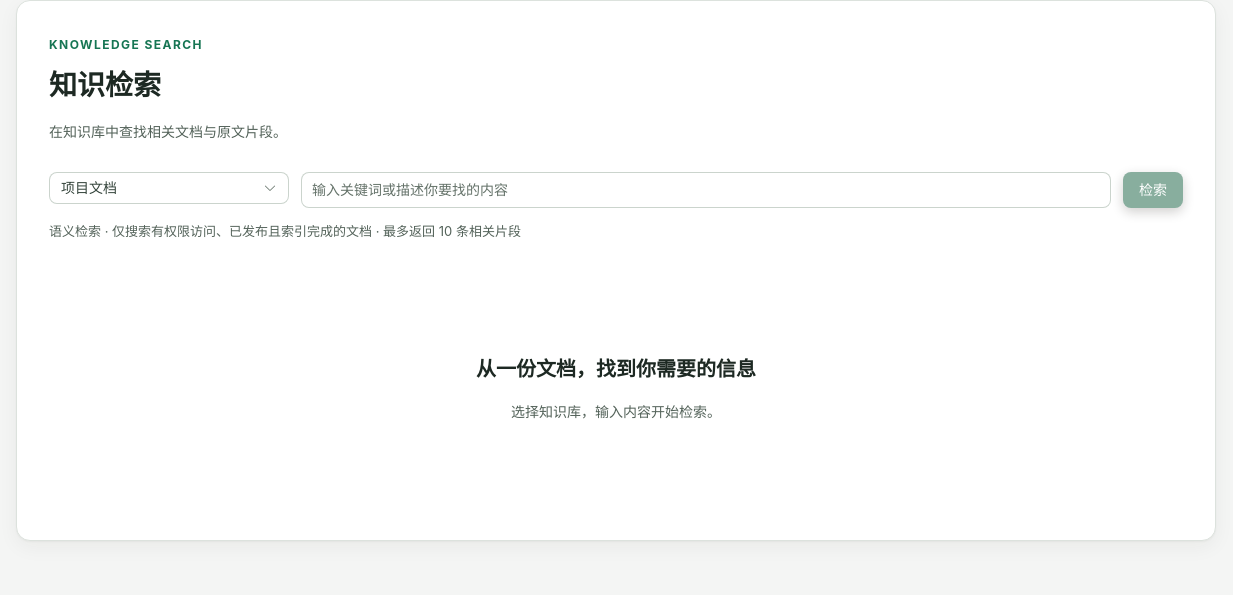
it: 知识检索 › shows empty and error states separately
The image size is (1233, 595).
Type "部署" into the field named "检索内容" at (706, 190), box x1=312 y1=175 x2=1100 y2=205
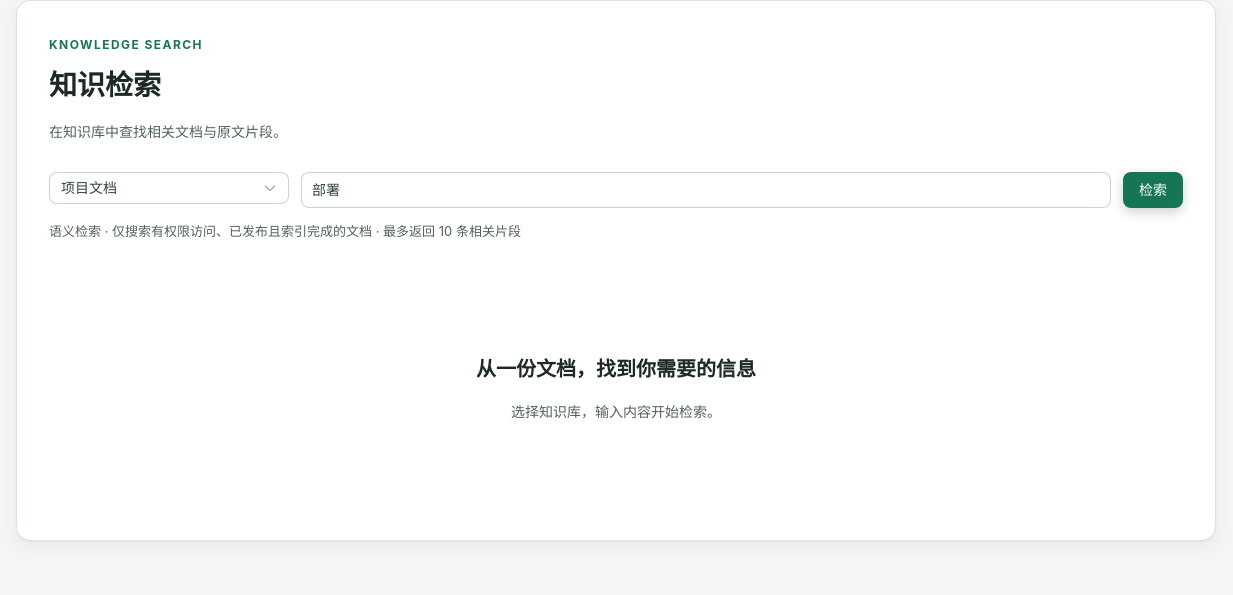
Submit the form, box x1=49 y1=172 x2=1183 y2=208
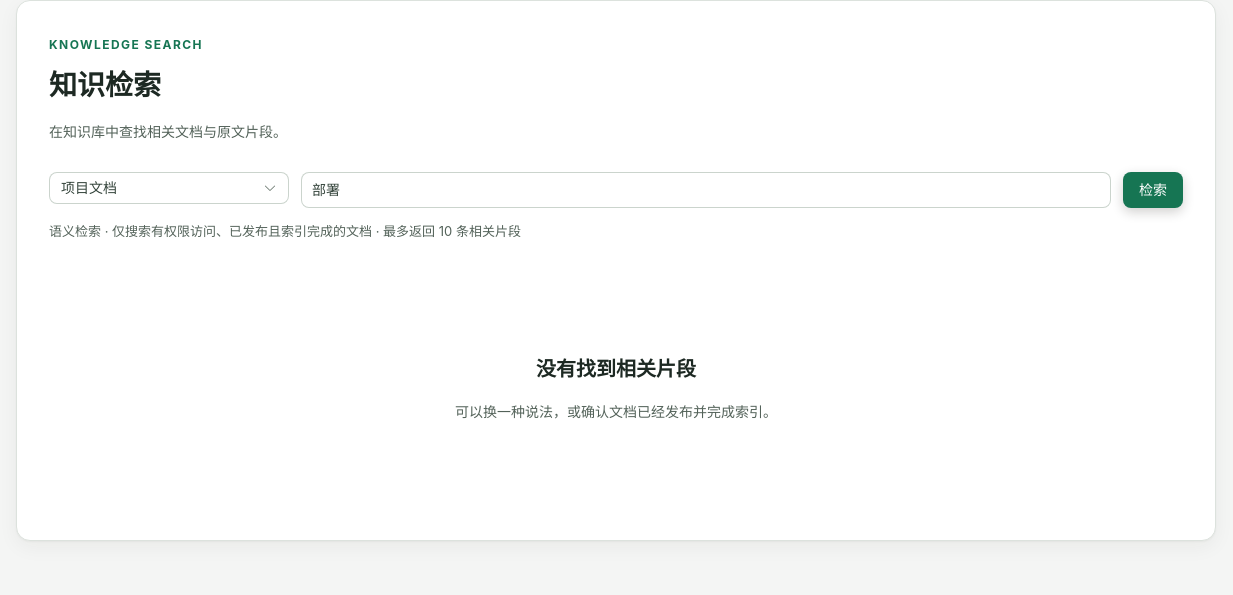
Result: the text "没有找到相关片段" is shown at x1=536 y1=358 x2=696 y2=382
Submit the form, box x1=49 y1=172 x2=1183 y2=208
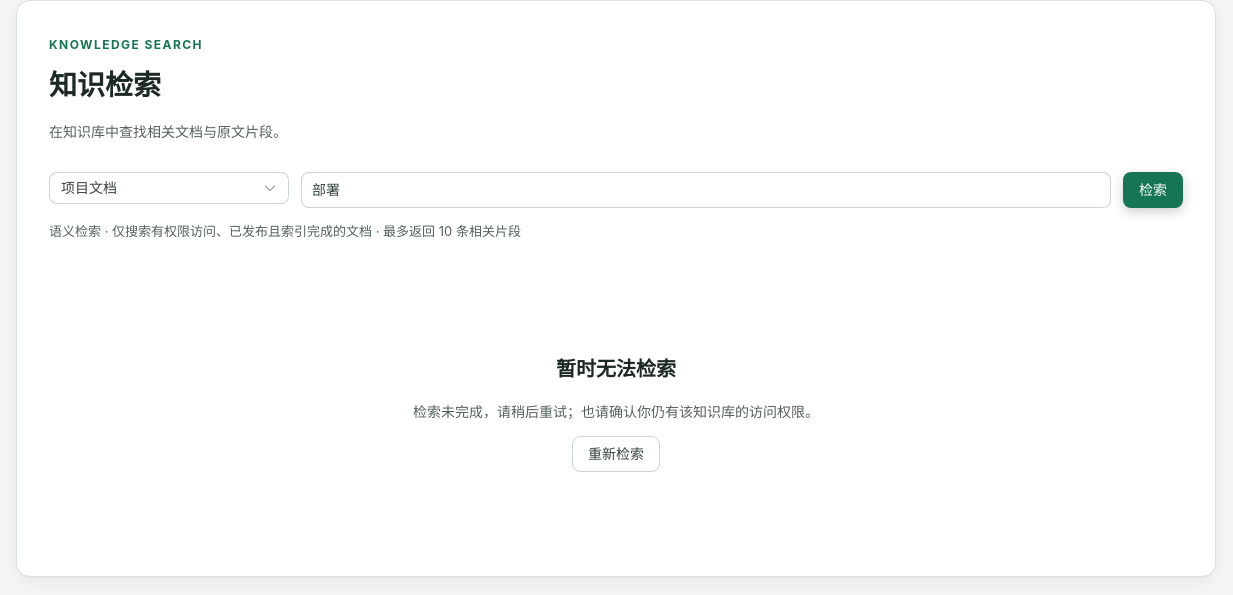
Result: the text "暂时无法检索" is shown at x1=556 y1=358 x2=676 y2=382
